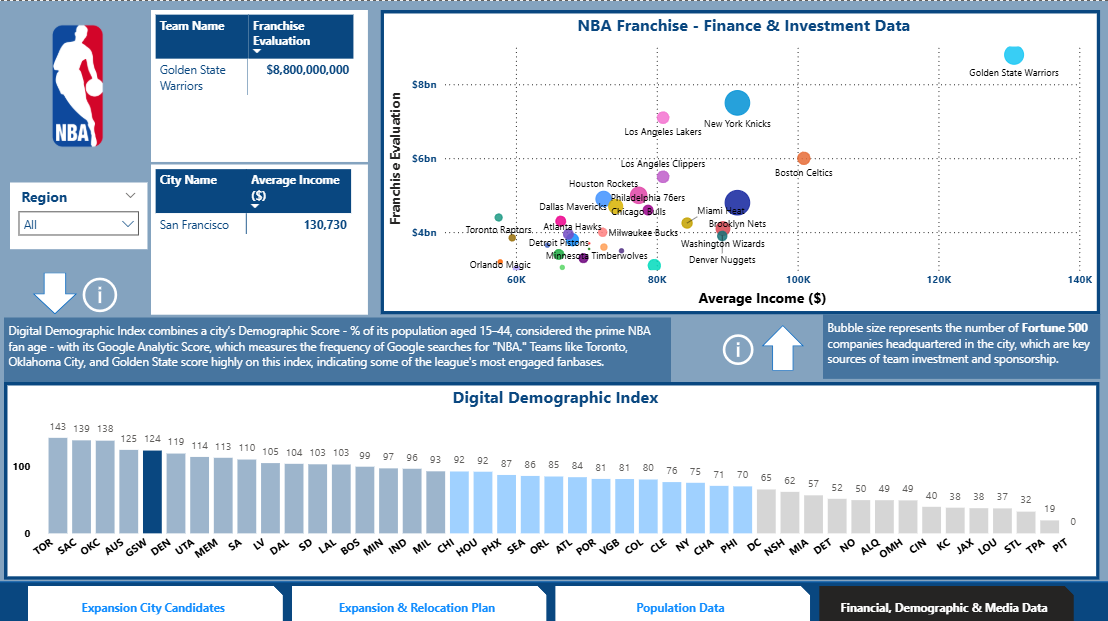

This screenshot's page, from the dashboard's own definition file:
{"tool":"powerbi","page":{"name":"Financial, Demographic & Media Data","canvas":[1280,720],"ordinal":3},"visuals":[{"type":"shape","title":"Navigation Bar","box":[0,666.4,1280,53.9],"z":0},{"type":"image","title":"NBA Logo","box":[6.8,10.7,169.2,175.1],"z":1000},{"type":"scatterChart","title":"NBA Franchise - Finance & Investment Data","fields":{"Category":["NBA Teams Data.Team Name"],"Series":["NBA Teams Data.City ID"],"Size":["Sum(NBA Teams Data.Fortune 500 HQ's)"],"X":["Sum(NBA Teams Data.Per Capita Personal Income (2023))"],"Y":["Sum(NBA Teams Data.Franchise Value (Prior to 24/25 NBA season))"]},"box":[439,10,827,350],"z":2000},{"type":"pivotTable","fields":{"Rows":["NBA Teams Data.Team Name"],"Values":["Sum(NBA Teams Data.Franchise Value (Prior to 24/25 NBA season))"]},"box":[176.1,10,249.2,174.5],"z":3000},{"type":"clusteredColumnChart","title":"Digital Demographic Index","fields":{"Category":["All Cities WCS.City ID"],"Y":["Measure Table.Youthful Score - Demographic + Google Trend"]},"box":[6.6,438.7,1259.5,227.6],"z":4000},{"type":"pivotTable","fields":{"Rows":["All Cities WCS.City Name"],"Values":["Sum(All Cities WCS.Per Capita Personal Income (2023))"]},"box":[176.1,187.8,249.2,172.8],"z":5000},{"type":"slicer","fields":{"Values":["NBA Teams Data.Region"]},"box":[13.3,209.4,157.9,76.4],"z":6000},{"type":"actionButton","box":[91.4,312.4,53.2,51.5],"z":7000},{"type":"shape","box":[39.9,312.4,51.5,48.2],"z":8000},{"type":"textbox","box":[6.4,364.3,766.7,74.5],"z":9000},{"type":"textbox","box":[946.6,364.3,318.9,74.5],"z":10000},{"type":"actionButton","box":[827.6,377.9,50,46.3],"z":11000},{"type":"shape","box":[877.6,371.6,49.1,52.7],"z":12000},{"type":"pageNavigator","box":[35,673,1203,42],"z":13000}]}

Visuals, with their boxes in screenshot pixels (x1, y1, x2, y2), scaled from the page's 1280x720 canvas onto the 1108x621 screenshot:
"Navigation Bar" shape: rect(0, 575, 1107, 620)
"NBA Logo" image: rect(6, 9, 152, 160)
"NBA Franchise - Finance & Investment Data" scatterChart: rect(380, 9, 1096, 310)
pivotTable - NBA Teams Data.Team Name x Sum(NBA Teams Data.Franchise Value (Prior to 24/25 NBA season)): rect(152, 9, 368, 159)
"Digital Demographic Index" clusteredColumnChart: rect(6, 378, 1096, 575)
pivotTable - All Cities WCS.City Name x Sum(All Cities WCS.Per Capita Personal Income (2023)): rect(152, 162, 368, 311)
slicer - NBA Teams Data.Region: rect(12, 181, 148, 247)
actionButton: rect(79, 269, 125, 314)
shape: rect(35, 269, 79, 311)
textbox: rect(6, 314, 669, 378)
textbox: rect(819, 314, 1095, 378)
actionButton: rect(716, 326, 760, 366)
shape: rect(760, 321, 802, 366)
pageNavigator: rect(30, 580, 1072, 617)
